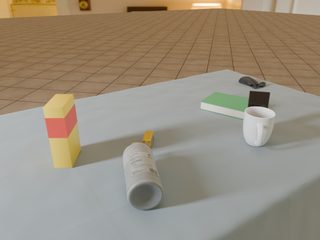book: (200, 92, 248, 119)
bottle: (123, 143, 164, 210)
box: (43, 94, 81, 168)
cup: (243, 106, 275, 146)
mouse: (239, 76, 266, 88)
phone: (247, 91, 270, 108)
toy_car: (143, 131, 153, 147)
